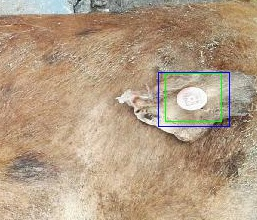text: (165, 73, 221, 121)
